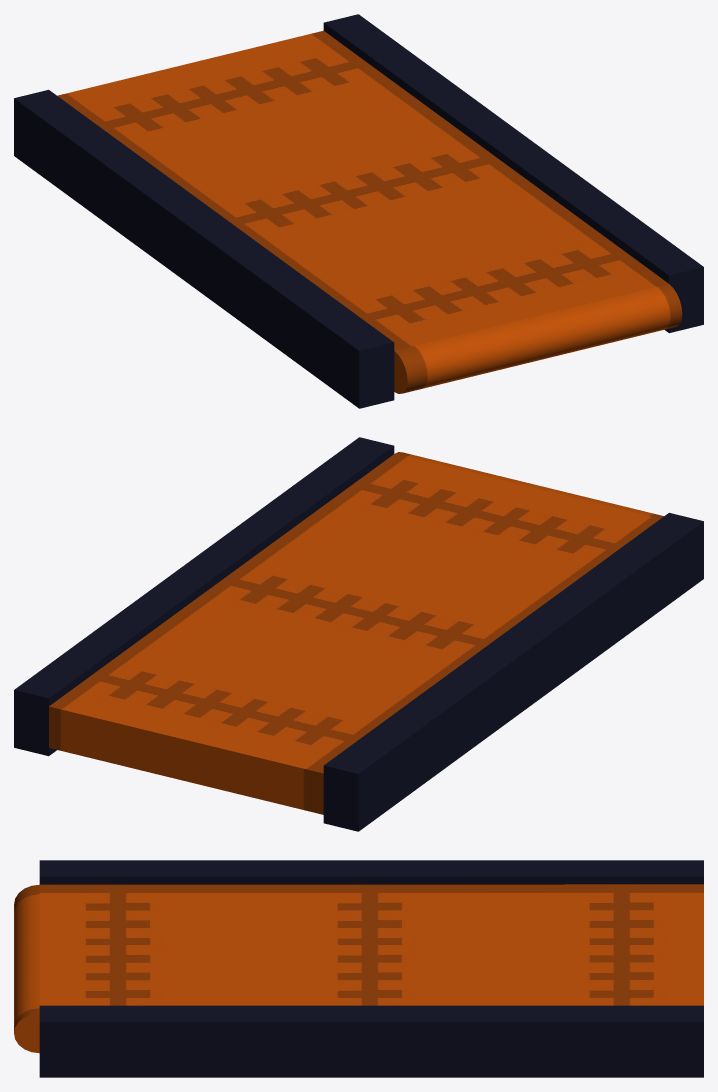
The model's file is conveyorEnd.fbx.
3 renders of one model, top to bottom at view 1: azimuth 30°, elevation 25°; view 2: azimuth 150°, elevation 25°; view 3: azimuth 270°, elevation 25°, orthographic. The views are drawn at different scales.
Visible parts, largest first — view 1: ConveyorEnd; view 2: ConveyorEnd; view 3: ConveyorEnd.
Part boxes in pixels (x1,y1,x2,y2): ConveyorEnd: [14, 14, 703, 408]; ConveyorEnd: [14, 437, 703, 831]; ConveyorEnd: [14, 860, 703, 1077].
Size of the model in its own units: 5.39 by 0.8636 by 9.72.
